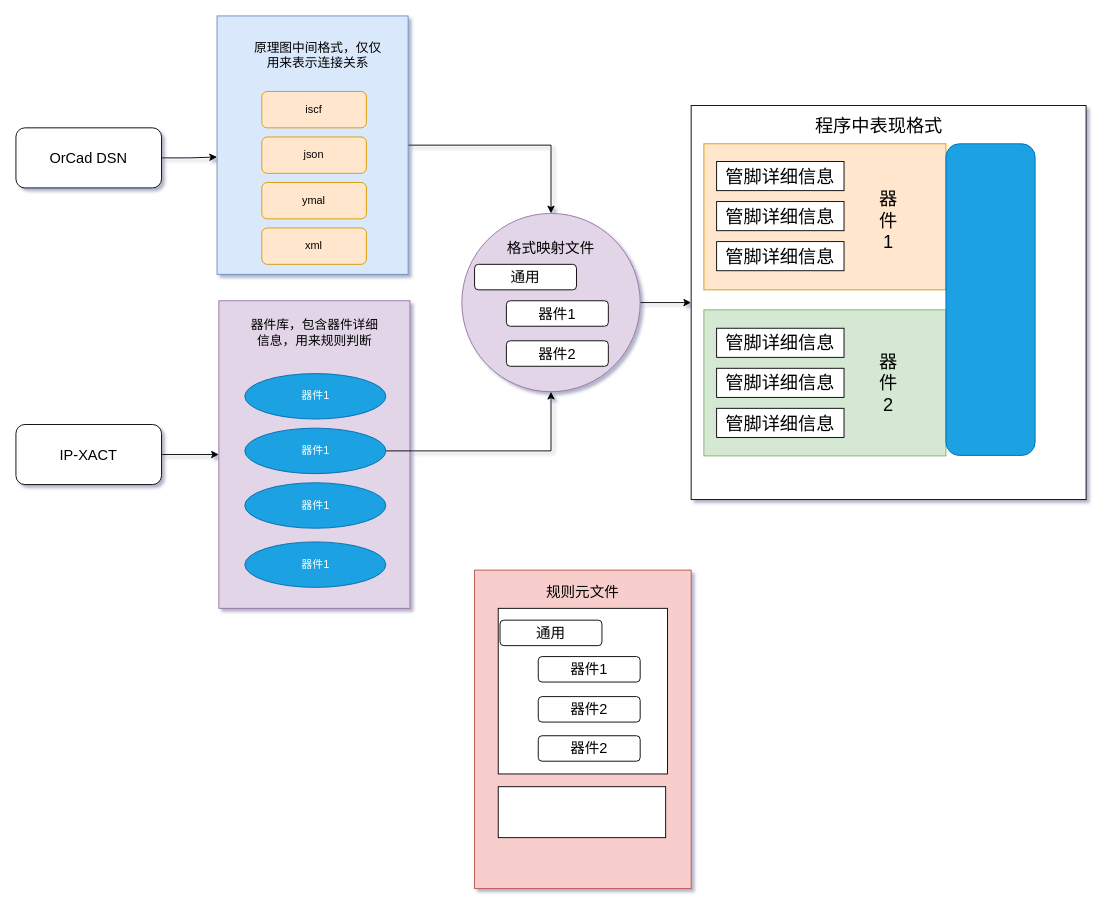
The diagram is 1107 pixels wide and 910 high, and some of its shapes have lost their labels. Each missing label, with the box of its shape:
操作符，专有名词: (497, 786, 666, 838)
连接关系: (945, 143, 1035, 455)
